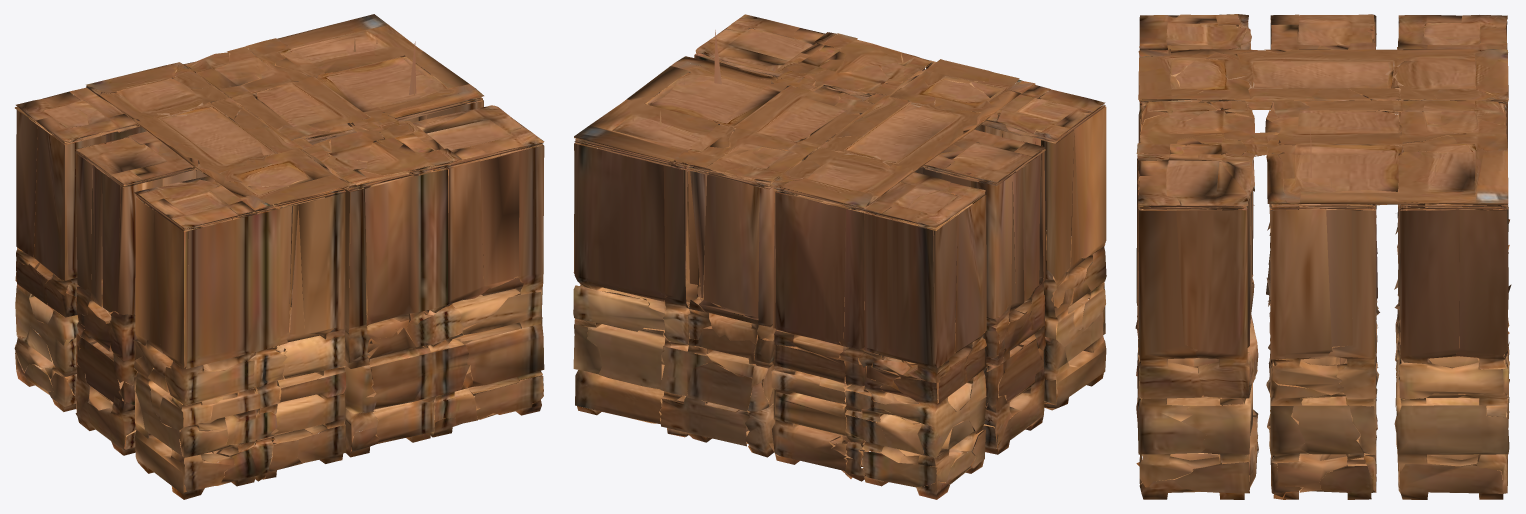
Rendered from crate-stack.glb.
The picture shows the model from 3 angles, left to right: view 1: azimuth 30°, elevation 25°; view 2: azimuth 150°, elevation 25°; view 3: azimuth 270°, elevation 25°; orthographic projection. The views are drawn at different scales.
Visible parts, largest first — view 1: crate-stack; view 2: crate-stack; view 3: crate-stack.
Boxes of the visible parts, x1,y1,x2,y2 form: crate-stack: (14,14,544,499); crate-stack: (573,14,1106,499); crate-stack: (1135,14,1511,499).
Size of the model in its own units: 2.2 by 1.9 by 1.8.
Materials: 1 (1 with a texture image).
